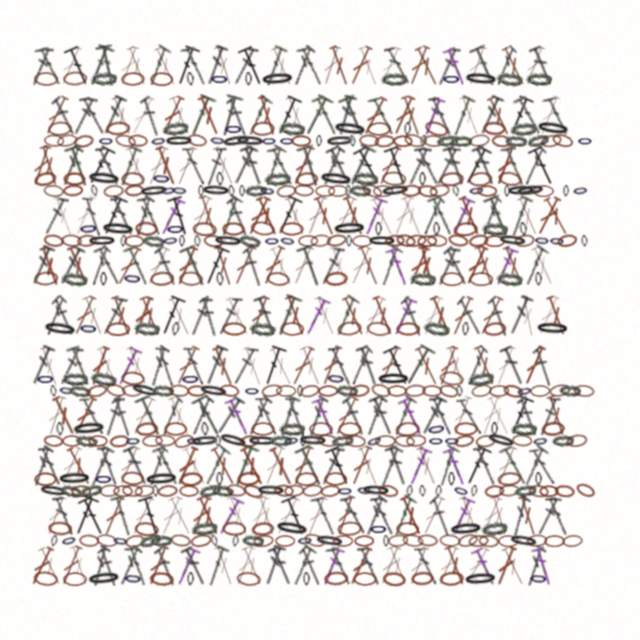chain: (535, 119, 571, 138), (274, 519, 310, 538), (332, 120, 368, 138), (318, 170, 354, 188), (42, 320, 78, 338), (86, 170, 122, 187), (71, 420, 107, 437), (86, 570, 122, 587), (129, 381, 161, 400), (217, 431, 249, 450), (485, 431, 517, 450), (463, 71, 499, 87), (100, 221, 136, 237), (448, 521, 484, 537), (260, 71, 295, 87), (144, 471, 179, 487), (463, 571, 498, 587), (423, 119, 450, 139), (332, 221, 367, 236), (535, 321, 570, 336), (57, 471, 92, 486), (467, 370, 495, 388), (221, 133, 252, 149), (198, 383, 229, 399), (38, 483, 69, 499), (314, 533, 345, 549), (508, 533, 539, 549), (376, 372, 411, 386), (90, 370, 117, 388), (497, 170, 523, 188), (380, 183, 411, 198), (515, 183, 546, 198), (497, 233, 528, 248), (162, 120, 189, 137), (423, 320, 450, 337), (191, 520, 218, 537), (481, 520, 508, 537), (138, 531, 162, 550), (33, 170, 58, 188), (574, 481, 597, 500), (496, 71, 523, 87), (510, 121, 537, 137), (264, 171, 291, 187), (61, 271, 88, 287), (496, 271, 523, 287), (249, 321, 276, 337), (250, 220, 275, 237), (337, 320, 362, 337), (439, 370, 464, 387), (33, 570, 58, 587), (235, 134, 265, 148), (325, 134, 355, 148), (139, 184, 169, 198), (213, 234, 243, 248), (190, 434, 220, 448), (526, 132, 550, 149), (79, 482, 103, 499), (198, 482, 222, 499), (439, 171, 464, 187), (468, 171, 493, 187), (192, 221, 217, 237), (453, 221, 478, 237), (366, 321, 391, 337), (395, 421, 420, 437), (497, 471, 522, 487), (134, 521, 159, 537), (149, 571, 174, 587), (236, 571, 261, 587), (361, 182, 383, 200), (173, 432, 195, 450), (242, 482, 264, 500), (551, 132, 574, 149), (303, 532, 326, 549), (91, 71, 117, 86), (279, 121, 305, 136), (352, 171, 378, 186), (201, 184, 231, 197), (506, 184, 536, 197), (134, 321, 160, 336), (298, 434, 328, 447), (256, 484, 286, 497), (361, 484, 391, 497), (295, 171, 319, 187), (266, 271, 290, 287), (483, 321, 507, 337), (135, 421, 159, 437), (179, 471, 203, 487), (59, 483, 83, 499), (251, 521, 275, 537), (382, 571, 406, 587), (337, 521, 362, 536), (439, 571, 464, 586), (403, 132, 425, 149), (105, 382, 127, 399), (370, 382, 392, 399), (457, 532, 479, 549), (114, 133, 137, 149), (540, 133, 563, 149), (238, 233, 261, 249), (381, 72, 407, 86), (526, 72, 552, 86), (482, 222, 508, 236), (410, 272, 436, 286), (62, 372, 88, 386), (279, 422, 305, 436), (511, 422, 537, 436), (63, 71, 87, 86), (48, 121, 72, 136), (106, 121, 130, 136), (251, 121, 275, 136), (164, 135, 194, 147), (382, 171, 406, 186), (87, 235, 117, 247), (367, 235, 397, 247), (34, 271, 58, 286), (150, 271, 174, 286), (179, 271, 203, 286), (324, 271, 348, 286), (121, 371, 145, 386), (541, 421, 565, 436), (247, 435, 277, 447), (48, 521, 72, 536), (222, 521, 246, 536), (324, 571, 348, 586), (73, 133, 95, 149), (86, 383, 108, 399), (299, 383, 321, 399), (438, 383, 460, 399), (502, 383, 524, 399), (453, 433, 475, 449), (377, 483, 399, 499), (124, 533, 146, 549), (483, 121, 506, 136), (436, 133, 459, 148), (135, 221, 158, 236), (331, 433, 354, 448), (121, 471, 144, 486), (237, 471, 260, 486), (211, 483, 234, 498), (514, 483, 537, 498), (411, 571, 434, 586), (34, 72, 58, 86), (121, 72, 145, 86), (367, 122, 391, 136), (121, 172, 145, 186), (280, 222, 304, 236), (440, 272, 464, 286), (469, 272, 493, 286), (106, 322, 130, 336), (222, 322, 246, 336), (280, 322, 304, 336), (396, 322, 420, 336), (251, 422, 275, 436), (309, 422, 333, 436), (338, 422, 362, 436), (426, 421, 447, 437), (454, 422, 478, 436), (63, 572, 87, 586), (353, 572, 377, 586), (56, 133, 78, 148), (186, 133, 208, 148), (395, 233, 417, 248), (405, 233, 427, 248), (447, 233, 469, 248), (556, 233, 578, 248), (261, 383, 283, 398), (549, 383, 571, 398), (566, 433, 588, 448), (225, 483, 247, 498), (96, 533, 118, 548), (190, 533, 212, 548), (402, 533, 424, 548), (150, 72, 173, 86), (63, 172, 86, 186), (222, 222, 245, 236), (142, 234, 165, 248), (68, 384, 91, 398), (164, 422, 187, 436), (75, 434, 98, 448), (34, 472, 57, 486), (295, 472, 318, 486), (324, 472, 347, 486), (396, 522, 419, 536), (469, 133, 490, 148), (429, 183, 450, 198), (43, 233, 64, 248), (326, 233, 347, 248), (468, 233, 489, 248), (514, 233, 535, 248), (219, 383, 240, 398), (349, 383, 370, 398), (471, 383, 492, 398), (317, 433, 338, 448), (302, 483, 323, 498), (170, 533, 191, 548), (573, 384, 595, 398), (365, 433, 384, 449), (326, 371, 346, 386), (123, 571, 143, 586), (374, 134, 395, 148), (491, 134, 512, 148), (43, 184, 64, 198), (103, 184, 124, 198), (276, 184, 297, 198), (417, 184, 438, 198), (203, 234, 224, 248), (43, 434, 64, 448), (109, 434, 130, 448), (239, 434, 260, 448), (345, 434, 366, 448), (394, 434, 415, 448), (475, 434, 496, 448), (134, 484, 155, 498), (157, 484, 178, 498), (320, 484, 341, 498), (484, 484, 505, 498), (528, 484, 549, 498), (554, 484, 575, 498), (253, 534, 274, 548), (468, 534, 489, 548), (478, 534, 499, 548), (562, 534, 583, 548), (452, 483, 470, 499), (245, 184, 267, 197), (349, 184, 371, 197), (152, 384, 174, 397), (336, 384, 358, 397), (559, 384, 581, 397), (270, 434, 292, 447), (552, 434, 574, 447), (150, 534, 172, 547), (242, 534, 264, 547), (439, 534, 461, 547), (152, 171, 171, 186), (79, 221, 98, 236), (123, 271, 142, 286), (79, 321, 98, 336), (529, 571, 548, 586), (124, 184, 145, 197), (61, 234, 82, 247), (310, 234, 331, 247), (405, 384, 426, 397), (99, 484, 120, 497), (122, 484, 143, 497), (417, 534, 438, 547), (60, 533, 78, 548), (210, 72, 229, 86), (442, 72, 461, 86), (224, 122, 243, 136), (166, 222, 185, 236), (36, 372, 55, 386), (181, 372, 200, 386), (94, 472, 113, 486), (369, 522, 388, 536), (450, 135, 472, 147), (505, 135, 527, 147), (44, 134, 64, 147), (128, 134, 148, 147), (359, 134, 379, 147), (63, 184, 83, 197), (294, 184, 314, 197), (401, 184, 421, 197), (77, 234, 97, 247), (385, 234, 405, 247), (427, 234, 447, 247), (122, 384, 142, 397), (169, 384, 189, 397), (155, 434, 175, 447), (406, 434, 426, 447), (512, 434, 532, 447), (274, 484, 294, 497), (284, 484, 304, 497), (499, 484, 519, 497), (79, 534, 99, 547), (388, 534, 408, 547), (527, 534, 547, 547), (423, 135, 444, 147), (533, 185, 554, 197), (484, 235, 505, 247), (142, 435, 163, 447), (375, 435, 396, 447), (498, 535, 519, 547), (544, 535, 565, 547), (291, 135, 311, 147), (393, 135, 413, 147), (315, 185, 335, 197), (328, 185, 348, 197), (373, 185, 393, 197), (477, 185, 497, 197), (124, 235, 144, 247), (298, 235, 318, 247), (352, 235, 372, 247), (417, 235, 437, 247), (187, 385, 207, 397), (276, 385, 296, 397), (318, 385, 338, 397), (387, 385, 407, 397), (422, 385, 442, 397), (489, 385, 509, 397), (530, 385, 550, 397), (62, 435, 82, 447), (88, 435, 108, 447), (71, 485, 91, 497), (113, 485, 133, 497), (179, 485, 199, 497), (539, 485, 559, 497), (275, 535, 295, 547), (333, 535, 353, 547), (354, 535, 374, 547), (150, 134, 167, 148), (259, 184, 276, 198), (279, 234, 296, 248), (516, 384, 533, 398), (532, 434, 549, 448), (112, 534, 129, 548), (209, 134, 226, 147), (160, 184, 177, 197), (171, 184, 188, 197), (468, 184, 485, 197), (572, 184, 589, 197), (162, 234, 179, 247), (58, 384, 75, 397), (283, 434, 300, 447), (356, 484, 373, 497), (534, 234, 550, 247), (297, 534, 313, 547), (98, 135, 114, 147), (261, 135, 277, 147), (279, 135, 295, 147), (577, 135, 593, 147), (264, 235, 280, 247), (549, 235, 565, 247), (244, 385, 260, 397), (125, 435, 141, 447), (186, 435, 202, 447), (428, 435, 444, 447), (444, 435, 460, 447), (337, 485, 353, 497), (186, 72, 195, 86), (519, 222, 528, 236), (171, 322, 180, 336), (90, 184, 99, 197), (210, 534, 219, 547), (216, 172, 224, 186), (216, 272, 224, 286), (56, 422, 64, 436), (201, 422, 209, 436), (452, 184, 460, 197), (245, 72, 252, 86), (404, 122, 411, 136), (419, 172, 426, 186), (375, 222, 382, 236), (433, 222, 440, 236), (100, 272, 107, 286), (535, 272, 542, 286), (462, 322, 469, 336), (491, 422, 498, 436), (216, 472, 223, 486), (448, 472, 455, 486), (535, 472, 542, 486), (187, 572, 194, 586), (303, 572, 310, 586), (470, 485, 478, 497), (50, 535, 58, 547), (349, 135, 356, 147), (420, 135, 427, 147), (228, 185, 235, 197), (120, 235, 127, 247), (194, 235, 201, 247), (581, 235, 588, 247), (50, 385, 57, 397), (456, 385, 463, 397), (152, 485, 159, 497), (406, 485, 413, 497), (419, 485, 426, 497), (435, 485, 442, 497), (232, 535, 239, 547), (316, 135, 322, 147), (198, 185, 204, 197), (239, 185, 245, 197), (345, 185, 351, 197), (504, 185, 510, 197), (563, 185, 569, 197), (179, 235, 185, 247), (346, 235, 352, 247), (297, 385, 303, 397), (215, 435, 221, 447), (300, 435, 306, 447), (383, 535, 389, 547)
double: (401, 344, 436, 388), (191, 394, 226, 438), (300, 94, 334, 138), (83, 144, 117, 188), (352, 144, 386, 188), (294, 444, 328, 488), (344, 144, 377, 188), (460, 144, 493, 188), (134, 394, 167, 438), (469, 44, 501, 88), (185, 94, 217, 138), (338, 94, 370, 138), (527, 144, 559, 188), (272, 194, 304, 238), (179, 244, 211, 288), (382, 344, 414, 388), (461, 444, 493, 488), (77, 494, 109, 538), (213, 395, 246, 437), (512, 94, 544, 137), (200, 444, 232, 487), (63, 44, 94, 88), (84, 44, 115, 88), (237, 44, 268, 88), (272, 94, 303, 138), (504, 94, 535, 138), (98, 194, 129, 238), (483, 194, 514, 238), (200, 244, 231, 288), (156, 294, 187, 338), (272, 294, 303, 338), (229, 444, 260, 488), (324, 444, 355, 488), (280, 494, 311, 538), (461, 545, 493, 587), (34, 44, 65, 87), (243, 94, 274, 137), (367, 94, 398, 137), (266, 144, 297, 187), (92, 244, 123, 287), (498, 444, 529, 487), (519, 444, 550, 487), (64, 144, 94, 188), (296, 244, 326, 288), (505, 394, 535, 438), (70, 494, 100, 538), (127, 95, 158, 137), (359, 95, 390, 137), (533, 195, 564, 237), (541, 195, 572, 237), (113, 245, 144, 287), (222, 295, 253, 337), (208, 445, 239, 487), (237, 445, 268, 487), (272, 495, 303, 537), (180, 44, 210, 87), (296, 44, 326, 87), (41, 94, 71, 137), (157, 94, 187, 137), (310, 94, 340, 137), (542, 94, 572, 137), (520, 244, 550, 287), (528, 244, 558, 287), (331, 294, 361, 337), (172, 344, 202, 387), (49, 394, 79, 437), (484, 394, 514, 437), (85, 444, 115, 487), (122, 444, 152, 487), (151, 444, 181, 487), (418, 494, 448, 537), (288, 544, 318, 587), (325, 544, 355, 587), (172, 44, 201, 88), (296, 144, 325, 188), (383, 144, 412, 188), (259, 344, 288, 388), (412, 45, 442, 87), (499, 45, 529, 87), (484, 95, 514, 137), (325, 145, 355, 187), (56, 245, 86, 287), (143, 245, 173, 287), (476, 295, 506, 337), (412, 345, 442, 387), (128, 395, 158, 437), (331, 395, 361, 437), (418, 395, 448, 437), (64, 445, 94, 487), (180, 445, 210, 487), (165, 495, 195, 537), (215, 495, 245, 537), (35, 545, 65, 587), (180, 545, 210, 587), (56, 44, 85, 87), (346, 44, 375, 87), (528, 44, 557, 87), (99, 94, 128, 137), (389, 94, 418, 137), (447, 94, 476, 137), (476, 94, 505, 137), (114, 144, 143, 187), (209, 144, 238, 187), (230, 144, 259, 187), (136, 194, 165, 237), (426, 194, 455, 237), (505, 194, 534, 237), (64, 244, 93, 287), (122, 244, 151, 287), (230, 244, 259, 287), (259, 244, 288, 287), (346, 244, 375, 287), (462, 244, 491, 287), (70, 294, 99, 337), (534, 294, 563, 337), (375, 344, 404, 387), (499, 344, 528, 387), (520, 344, 549, 387), (165, 394, 194, 437), (368, 394, 397, 437), (389, 394, 418, 437), (56, 444, 85, 487), (375, 444, 404, 487), (157, 494, 186, 537), (194, 494, 223, 537), (310, 494, 339, 537), (389, 494, 418, 537), (397, 494, 426, 537), (267, 544, 296, 587), (433, 544, 462, 587), (216, 94, 244, 138), (166, 194, 194, 238), (137, 494, 165, 538), (151, 45, 180, 87), (375, 145, 404, 187), (157, 195, 186, 237), (244, 195, 273, 237), (331, 195, 360, 237), (368, 195, 397, 237), (267, 245, 296, 287), (302, 295, 331, 337), (339, 295, 368, 337), (360, 295, 389, 337), (114, 345, 143, 387), (267, 345, 296, 387), (288, 345, 317, 387), (70, 395, 99, 437), (397, 395, 426, 437), (267, 445, 296, 487), (128, 495, 157, 537), (27, 545, 56, 587), (346, 545, 375, 587), (470, 545, 499, 587), (499, 545, 528, 587), (144, 44, 172, 87), (260, 44, 288, 87), (405, 44, 433, 87), (108, 94, 136, 137), (166, 94, 194, 137), (195, 94, 223, 137), (282, 94, 310, 137), (535, 94, 563, 137), (152, 144, 180, 187), (239, 144, 267, 187), (260, 144, 288, 187), (289, 144, 317, 187), (471, 144, 499, 187), (500, 144, 528, 187), (71, 194, 99, 237), (187, 194, 215, 237), (216, 194, 244, 237), (340, 194, 368, 237), (398, 194, 426, 237), (456, 194, 484, 237), (28, 244, 56, 287), (289, 244, 317, 287), (355, 244, 383, 287), (376, 244, 404, 287), (500, 244, 528, 287), (79, 294, 107, 337), (311, 294, 339, 337), (369, 294, 397, 337), (427, 294, 455, 337), (506, 294, 534, 337), (28, 344, 56, 387), (65, 344, 93, 387), (123, 344, 151, 387), (297, 344, 325, 387), (471, 344, 499, 387), (115, 444, 143, 487), (260, 444, 288, 487), (347, 444, 375, 487), (413, 444, 441, 487), (492, 444, 520, 487), (224, 494, 252, 537), (57, 544, 85, 587), (144, 544, 172, 587), (202, 544, 230, 587), (376, 544, 404, 587), (455, 295, 484, 336), (244, 395, 273, 436), (268, 45, 296, 87), (376, 45, 404, 87), (253, 195, 281, 237), (448, 195, 476, 237), (514, 195, 542, 237), (166, 295, 194, 337), (390, 295, 418, 337), (448, 295, 476, 337), (94, 345, 122, 387), (224, 395, 252, 437), (173, 445, 201, 487), (405, 445, 433, 487), (448, 495, 476, 537), (477, 495, 505, 537), (173, 545, 201, 587), (115, 44, 142, 87), (326, 44, 353, 87), (463, 44, 490, 87), (521, 44, 548, 87), (398, 94, 425, 137), (456, 94, 483, 137), (442, 144, 469, 187), (492, 144, 519, 187), (50, 194, 77, 237), (303, 194, 330, 237), (390, 194, 417, 237), (326, 244, 353, 287), (108, 294, 135, 337), (253, 294, 280, 337), (282, 294, 309, 337), (543, 294, 570, 337), (202, 344, 229, 387), (318, 344, 345, 387), (355, 344, 382, 387), (492, 344, 519, 387), (274, 394, 301, 437), (448, 394, 475, 437), (477, 394, 504, 437), (289, 444, 316, 487), (384, 444, 411, 487), (434, 444, 461, 487), (42, 494, 69, 537), (456, 494, 483, 537), (384, 544, 411, 587), (442, 544, 469, 587), (231, 45, 259, 86), (50, 95, 78, 136), (318, 145, 346, 186), (442, 245, 470, 286), (100, 295, 128, 336), (231, 345, 259, 386), (187, 395, 215, 436), (115, 545, 143, 586), (355, 45, 382, 87), (442, 45, 469, 87), (123, 145, 150, 187), (144, 145, 171, 187), (173, 145, 200, 187), (282, 195, 309, 237), (311, 195, 338, 237), (361, 195, 388, 237), (173, 245, 200, 287), (405, 245, 432, 287), (492, 245, 519, 287), (137, 295, 164, 337), (419, 295, 446, 337), (210, 345, 237, 387), (311, 395, 338, 437), (355, 445, 382, 487), (442, 445, 469, 487), (100, 495, 127, 537), (187, 495, 214, 537), (303, 495, 330, 537), (239, 545, 266, 587), (405, 545, 432, 587), (456, 396, 484, 436), (529, 446, 557, 486), (95, 44, 121, 87), (203, 44, 229, 87), (472, 244, 498, 287), (443, 344, 469, 387), (43, 394, 69, 437), (66, 544, 92, 587), (124, 544, 150, 587), (211, 544, 237, 587), (261, 544, 287, 587), (289, 45, 316, 86), (384, 45, 411, 86), (71, 95, 98, 136), (79, 95, 106, 136), (434, 145, 461, 186), (521, 145, 548, 186), (42, 195, 69, 236), (50, 295, 77, 336), (216, 295, 243, 336), (57, 345, 84, 386), (79, 395, 106, 436), (340, 495, 367, 536), (361, 495, 388, 536), (535, 495, 562, 536), (297, 545, 324, 586), (124, 45, 150, 87), (435, 45, 461, 87), (420, 95, 446, 137), (414, 145, 440, 187), (225, 195, 251, 237), (37, 245, 63, 287), (385, 245, 411, 287), (435, 245, 461, 287), (130, 295, 156, 337), (246, 295, 272, 337), (399, 295, 425, 337), (240, 345, 266, 387), (435, 345, 461, 387), (246, 495, 272, 537), (232, 545, 258, 587), (319, 545, 345, 587), (493, 545, 519, 587), (211, 44, 236, 87), (319, 44, 344, 87), (29, 144, 54, 187), (37, 144, 62, 187), (196, 194, 221, 237), (211, 244, 236, 287), (544, 394, 569, 437), (109, 494, 134, 537), (254, 494, 279, 537), (333, 494, 358, 537), (58, 145, 84, 186), (406, 145, 432, 186), (420, 195, 446, 236), (153, 245, 179, 286), (319, 245, 345, 286), (348, 345, 374, 386), (341, 395, 367, 436), (362, 395, 388, 436), (319, 445, 345, 486), (29, 45, 54, 87), (225, 95, 250, 137), (428, 95, 453, 137), (95, 145, 120, 187), (188, 295, 213, 337), (486, 295, 511, 337), (37, 345, 62, 387), (87, 345, 112, 387), (304, 395, 329, 437), (29, 445, 54, 487), (370, 495, 395, 537), (428, 495, 453, 537), (153, 545, 178, 587), (522, 545, 547, 587), (255, 94, 279, 137), (334, 94, 358, 137), (487, 494, 511, 537), (516, 494, 540, 537), (531, 544, 555, 587), (493, 45, 518, 86), (182, 145, 207, 186), (43, 295, 68, 336), (464, 345, 489, 386), (159, 395, 184, 436), (414, 545, 439, 586), (110, 195, 134, 237), (131, 195, 155, 237), (241, 245, 265, 287), (146, 345, 170, 387), (328, 345, 352, 387), (531, 345, 555, 387), (110, 395, 134, 437), (429, 395, 453, 437), (516, 395, 540, 437), (537, 395, 561, 437), (38, 445, 62, 487), (473, 445, 497, 487), (545, 495, 569, 537), (96, 545, 120, 587), (357, 545, 381, 587), (415, 244, 438, 287), (479, 195, 503, 236), (88, 245, 112, 286), (255, 395, 279, 436), (139, 95, 162, 137), (204, 145, 227, 187), (52, 495, 75, 537), (508, 495, 531, 537), (88, 545, 111, 587), (183, 345, 206, 386), (146, 445, 169, 486), (198, 295, 220, 337), (103, 395, 125, 437), (285, 395, 307, 437), (97, 445, 119, 487), (82, 195, 103, 237), (517, 295, 538, 337), (155, 345, 176, 387)
